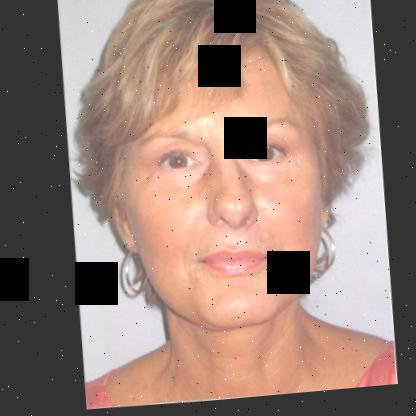Female: (94, 32, 334, 342)
